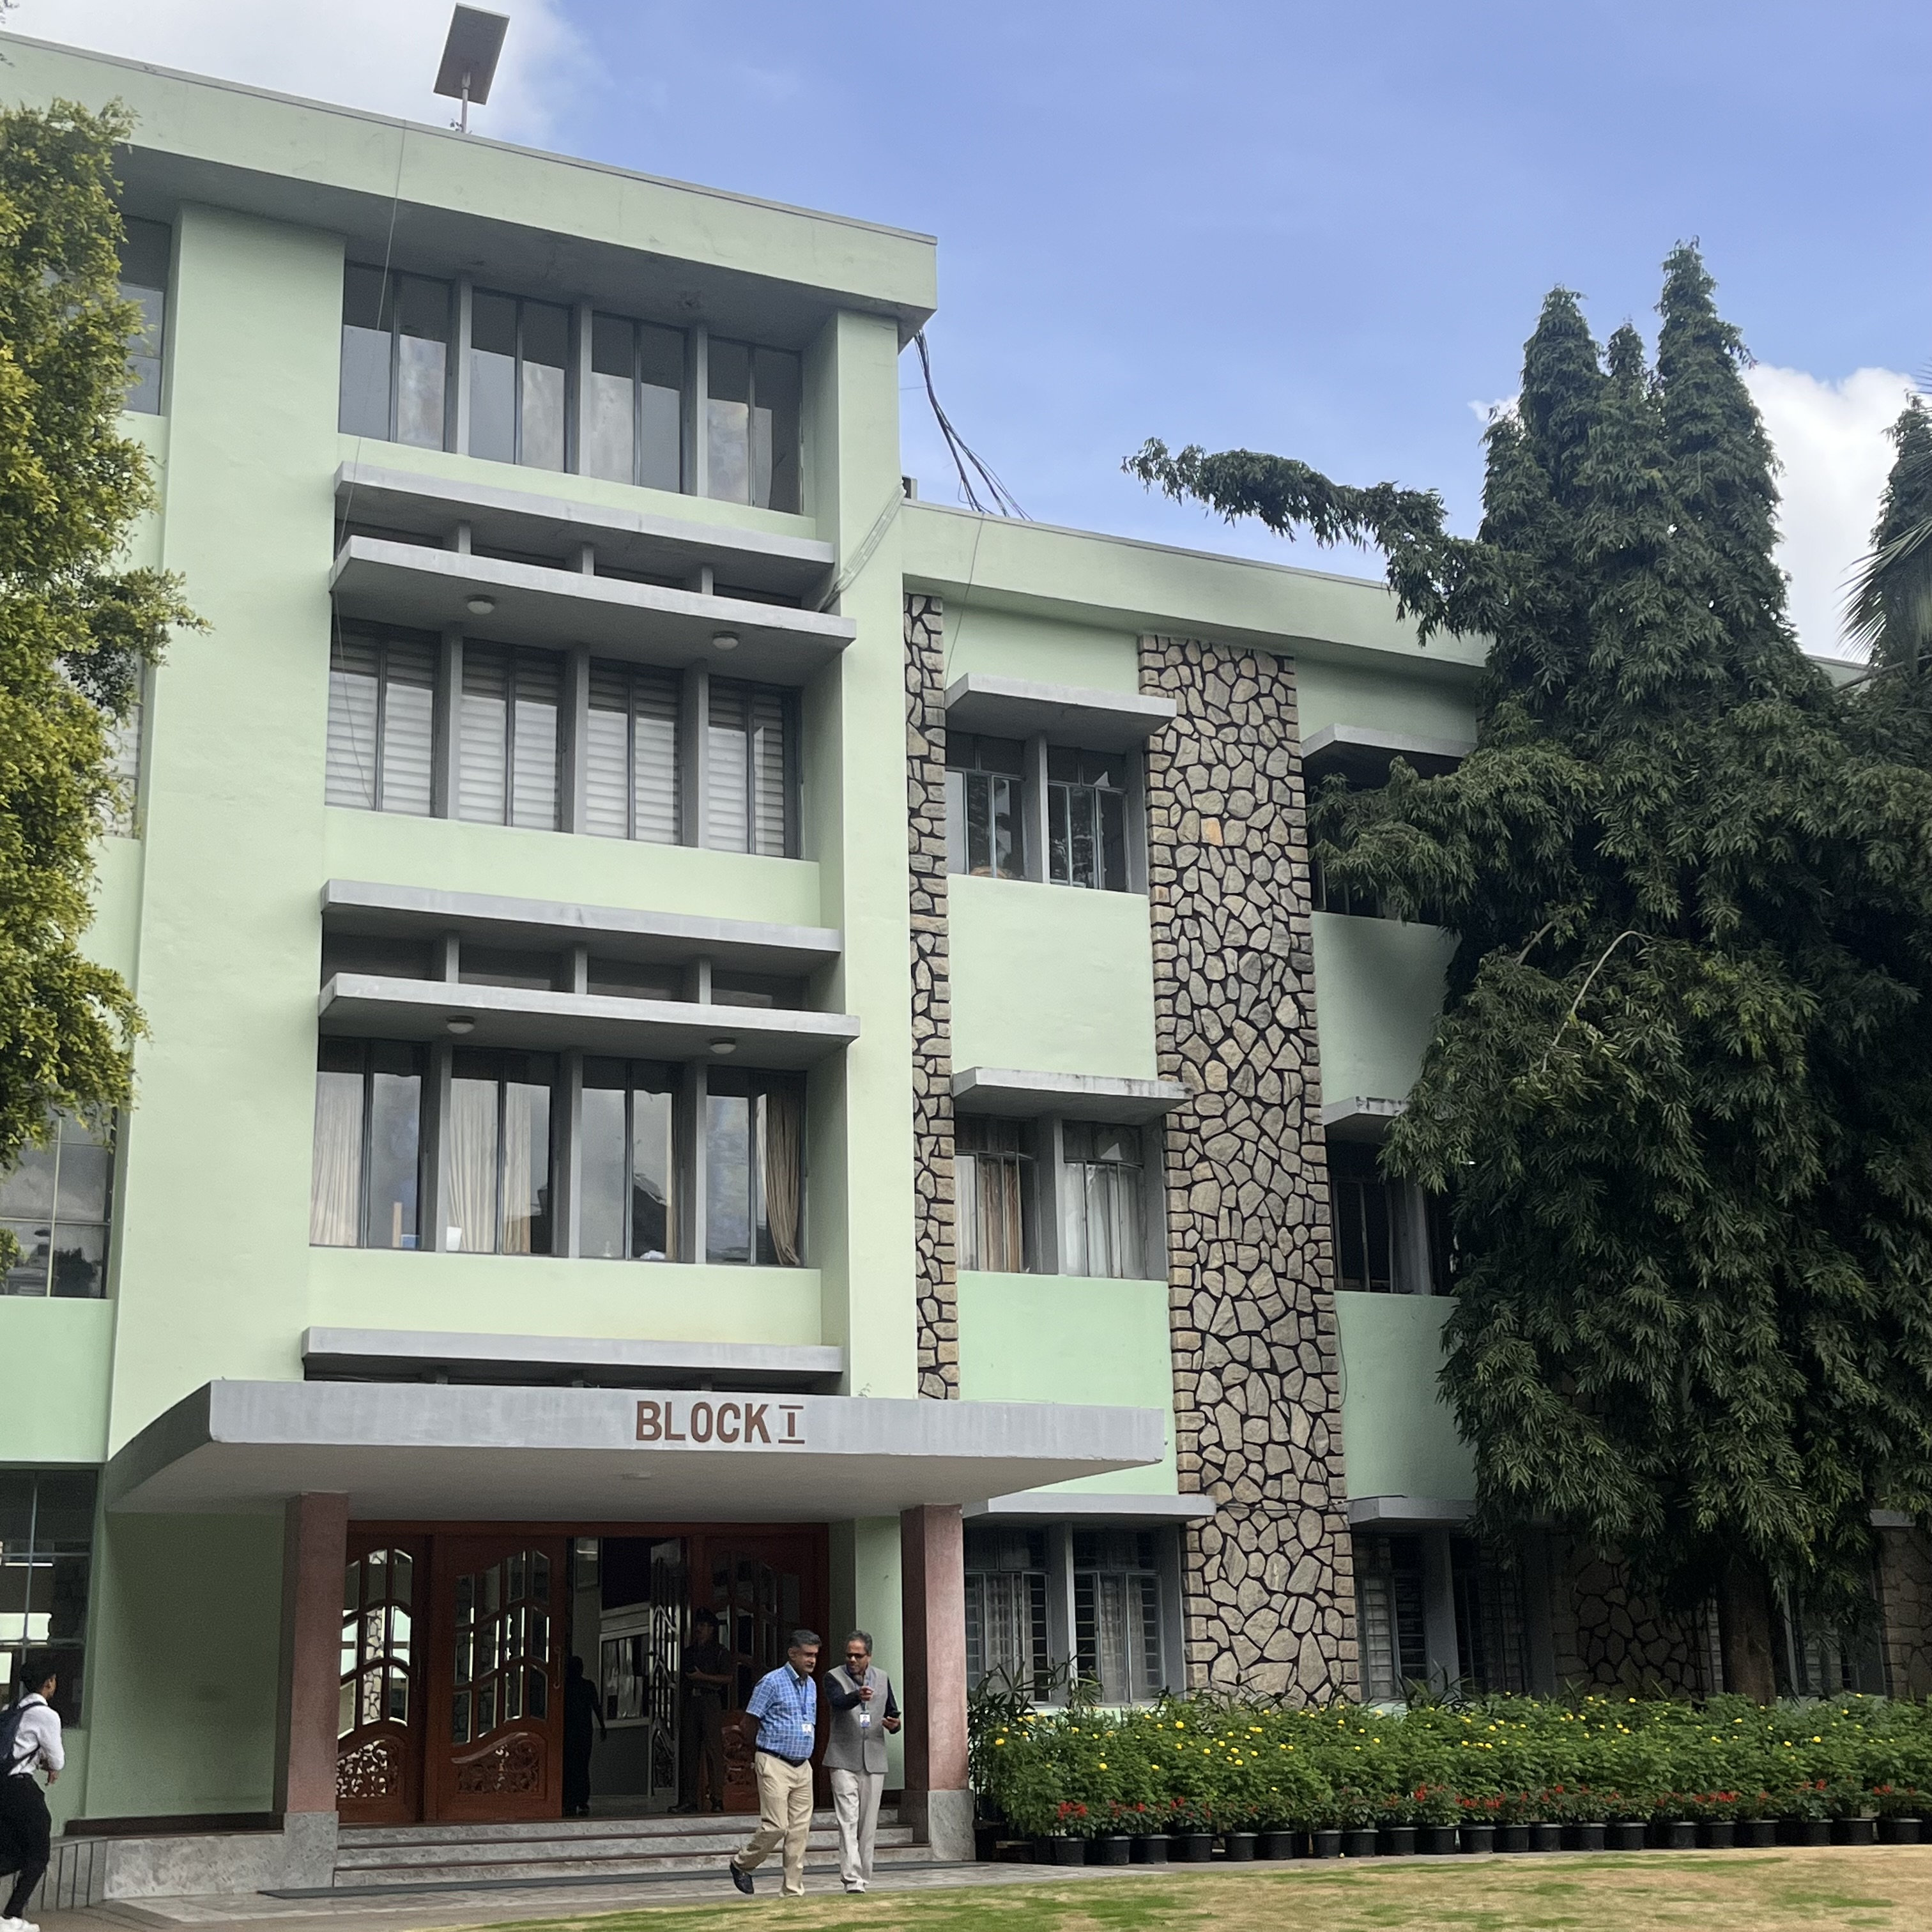Block 1: (126, 57, 1500, 1706)
